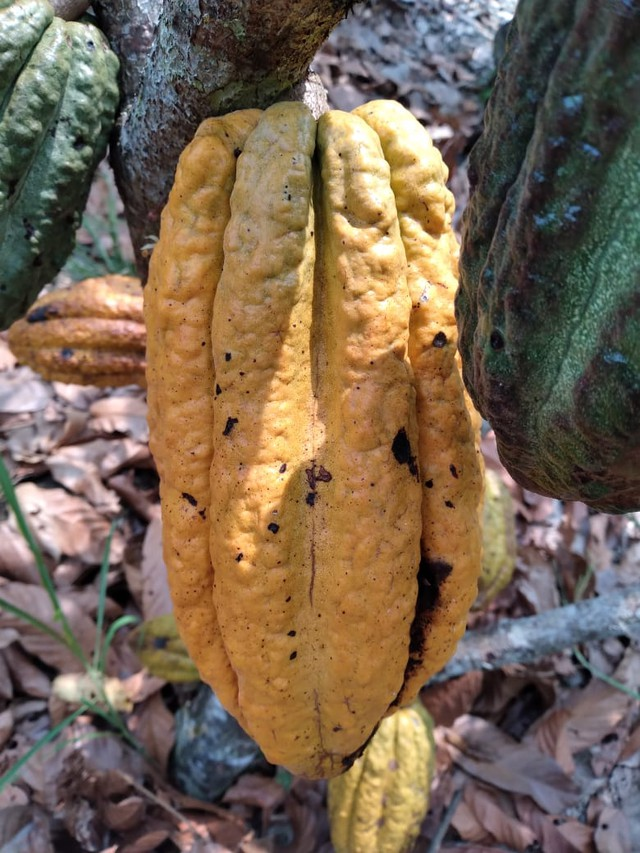carmenta foraseminis: (141, 87, 492, 792), (459, 0, 635, 506), (9, 277, 148, 391)
